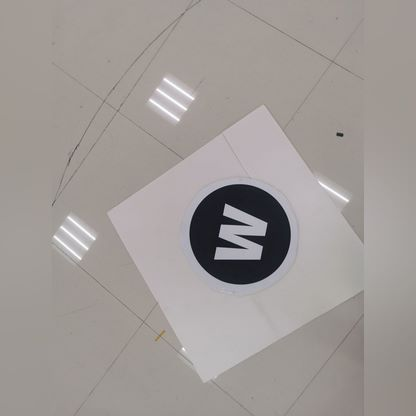W: (195, 187, 284, 279)
